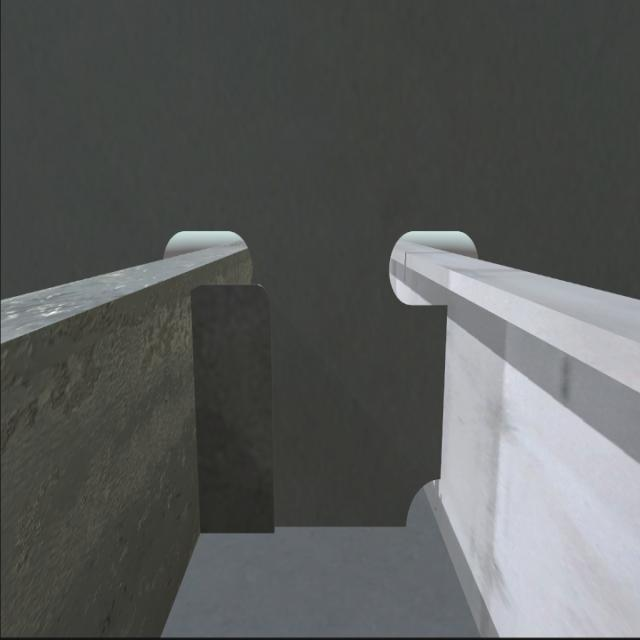fillet_hole: (403, 482, 441, 530)
fillet_yong_jeop_jang: (195, 517, 414, 537)
longi_yong_jeop_jang: (185, 284, 207, 540), (436, 295, 456, 477)
plate_CP05: (193, 286, 277, 532)
